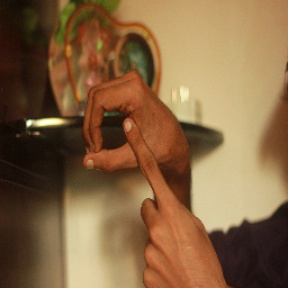Q: (75, 66, 203, 228)
